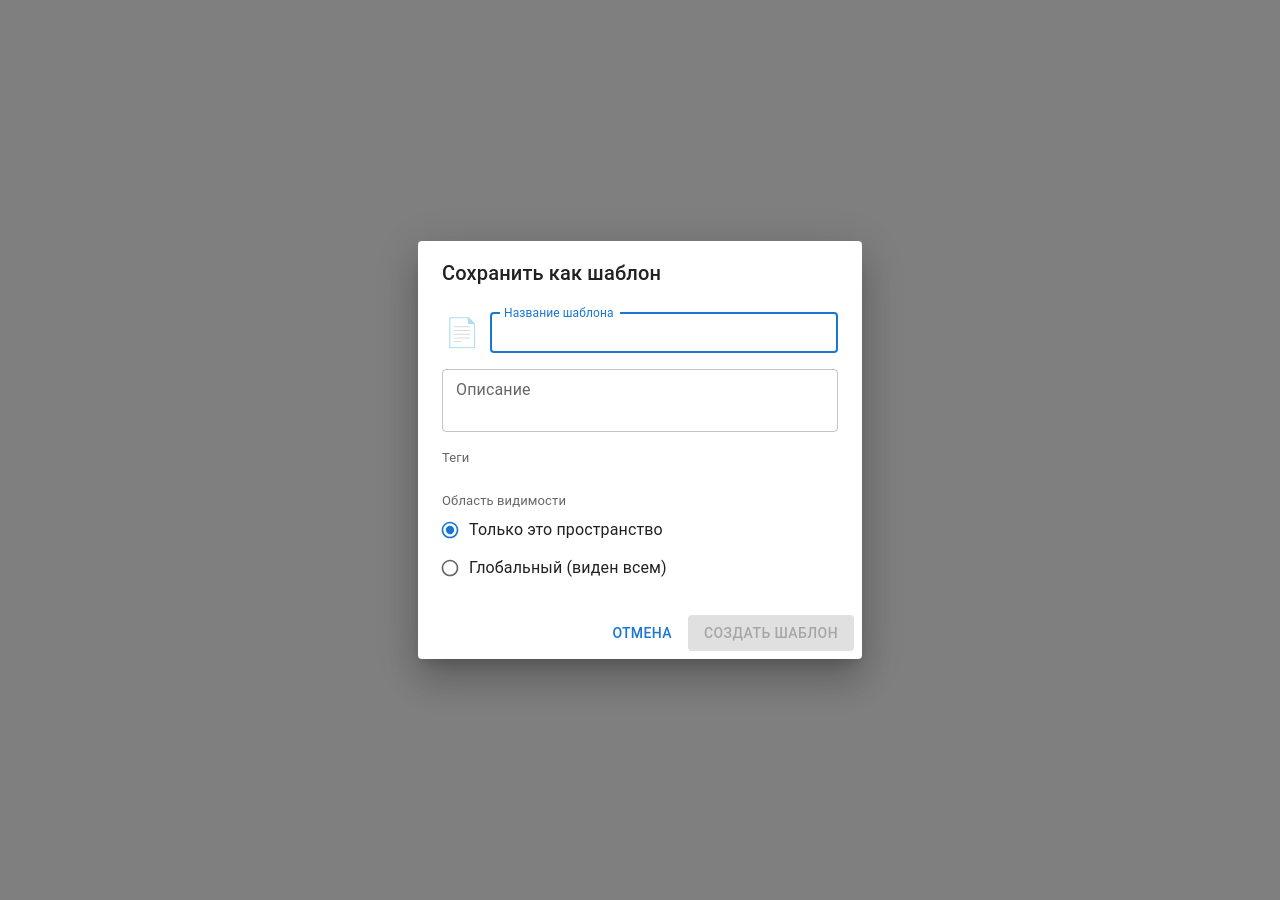
Scenario: SaveAsTemplateDialog › disables submit when the title is empty
Expected: the button "Создать шаблон" is disabled, [688,615,854,651]
Type "X" into the field labelled "Название шаблона" at (664, 333), box [490,313,838,353]
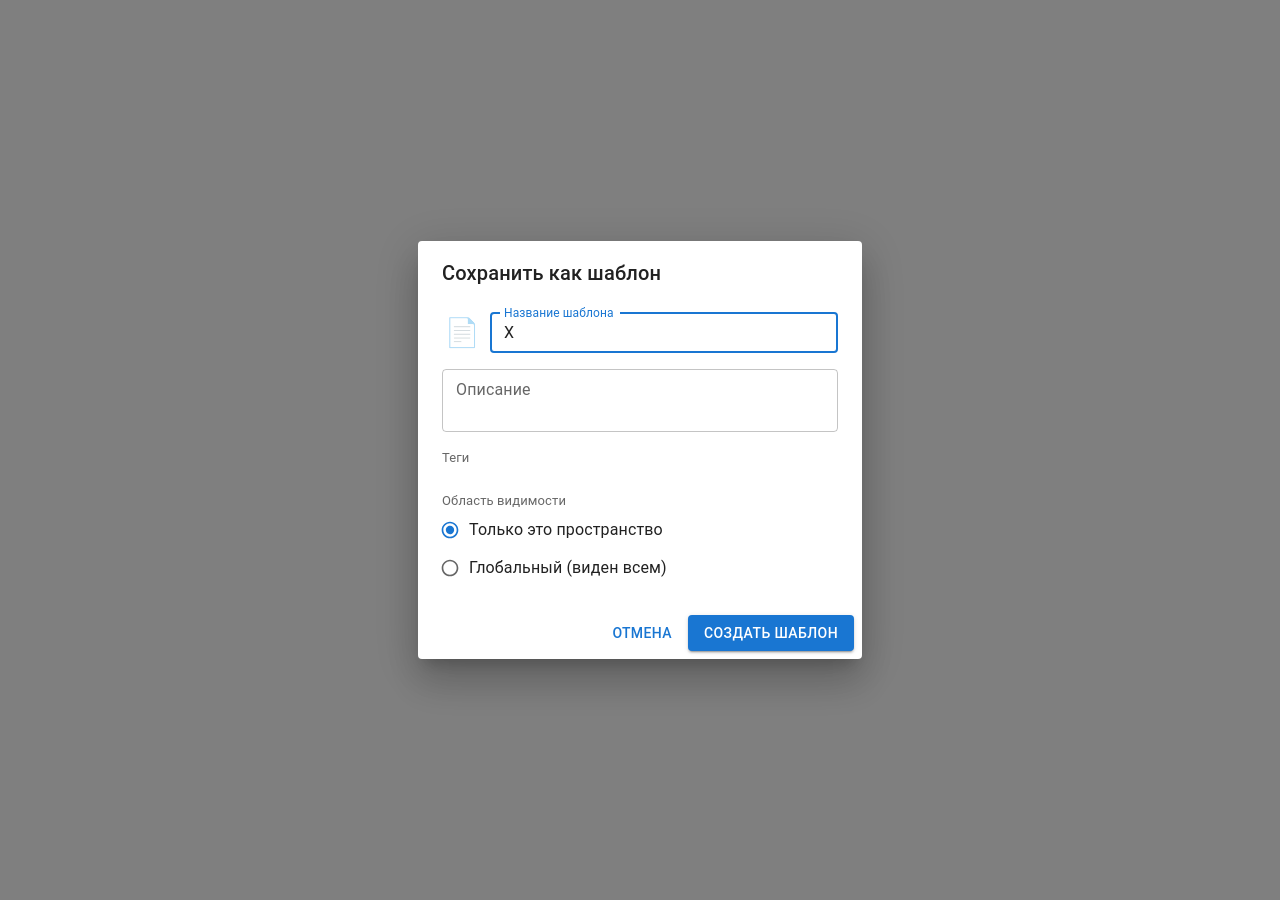
Now the button "Создать шаблон" is enabled, box [688,615,854,651]
